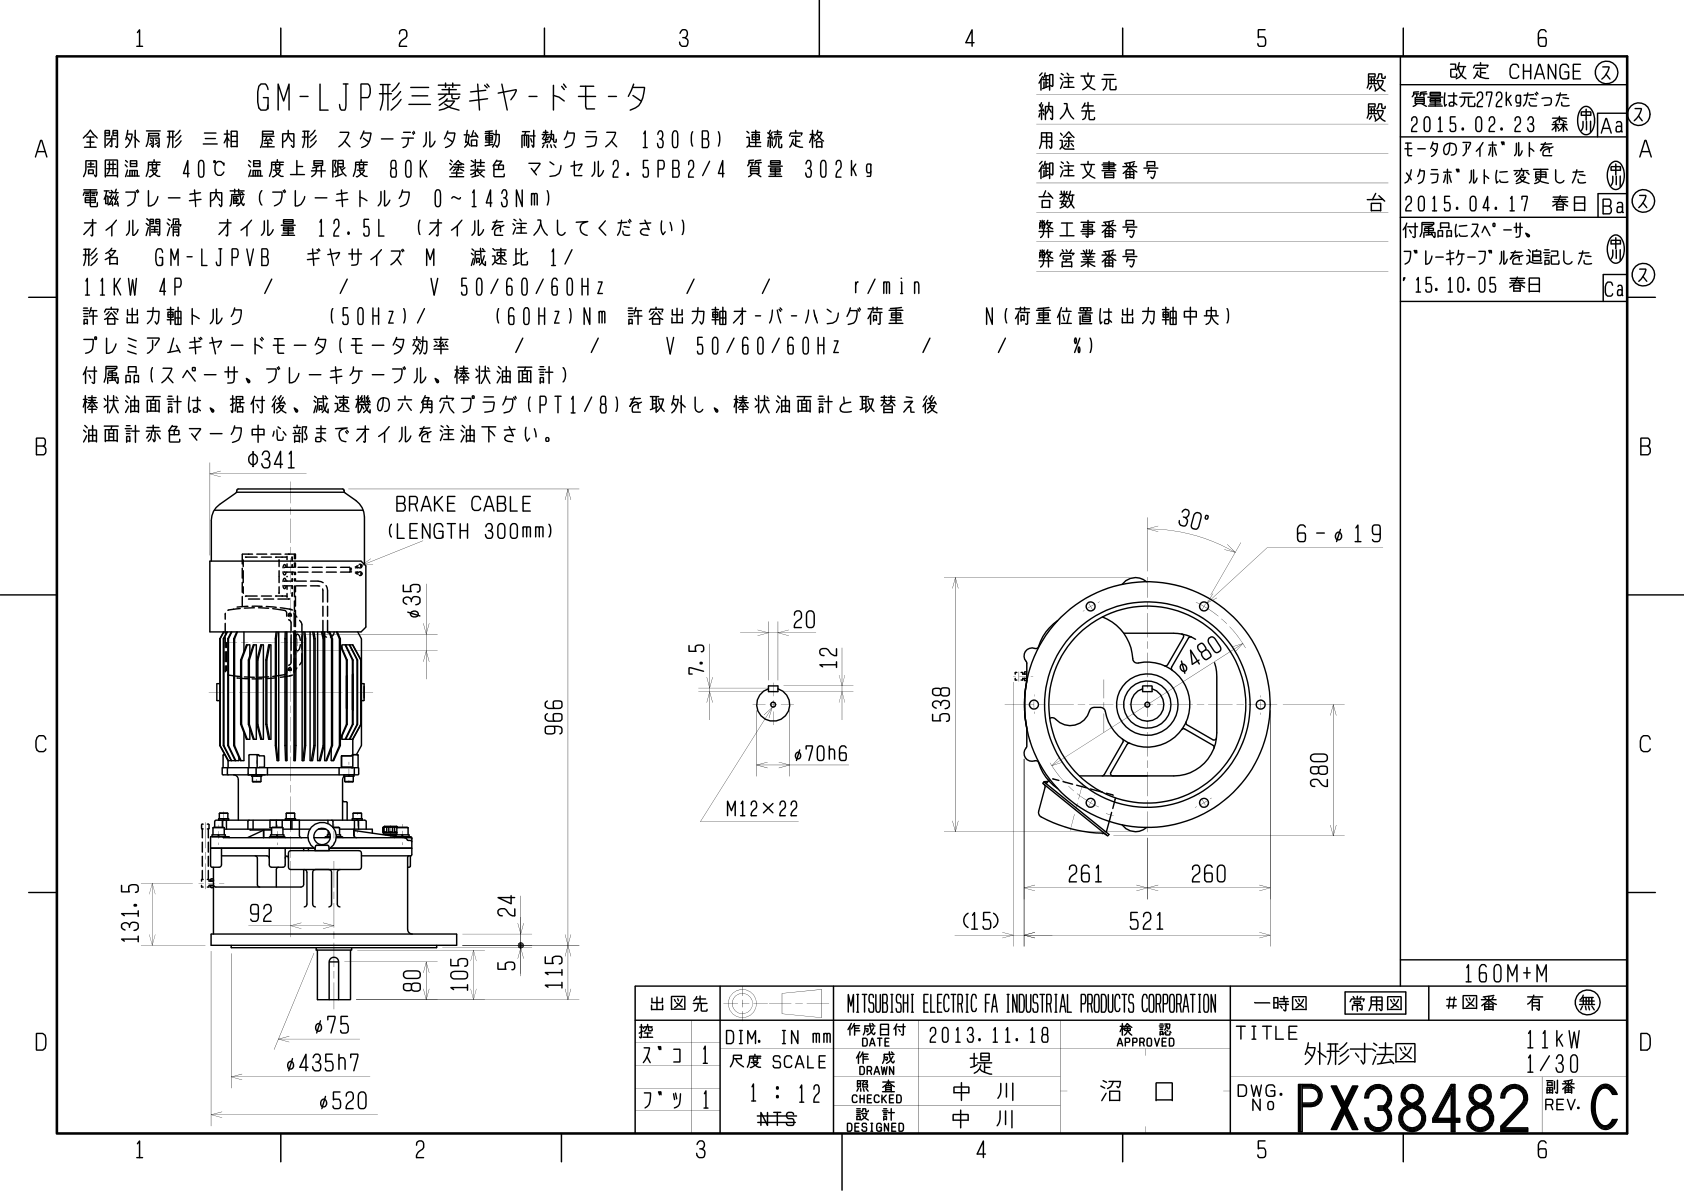GM_LJP_屋内_三相_立: (1, 1, 1669, 1176)
